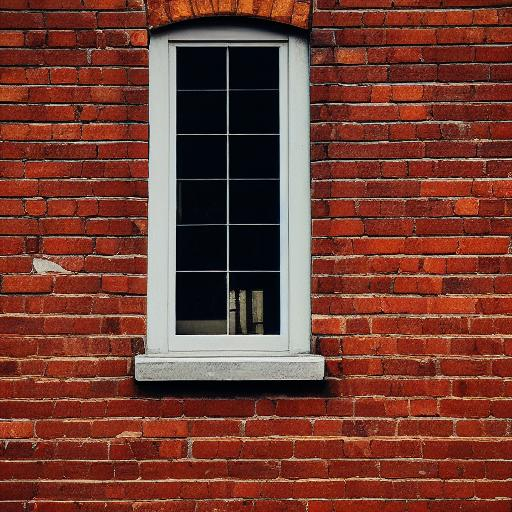Window: (132, 0, 327, 383)
